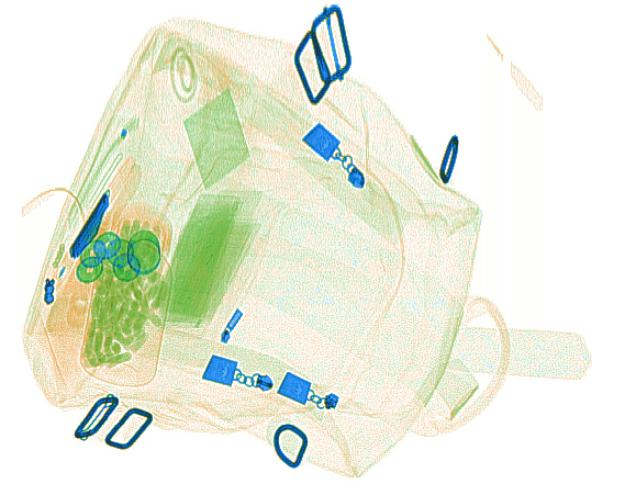knife: (68, 189, 112, 260)
